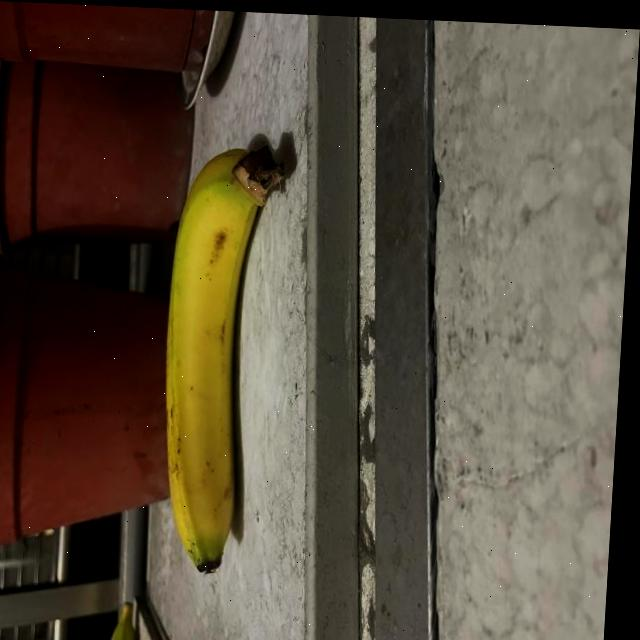banana: (144, 133, 293, 585)
